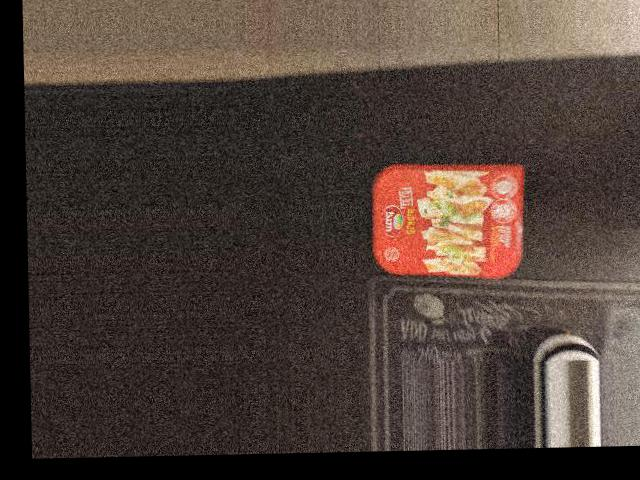cheese: (372, 157, 533, 282)
